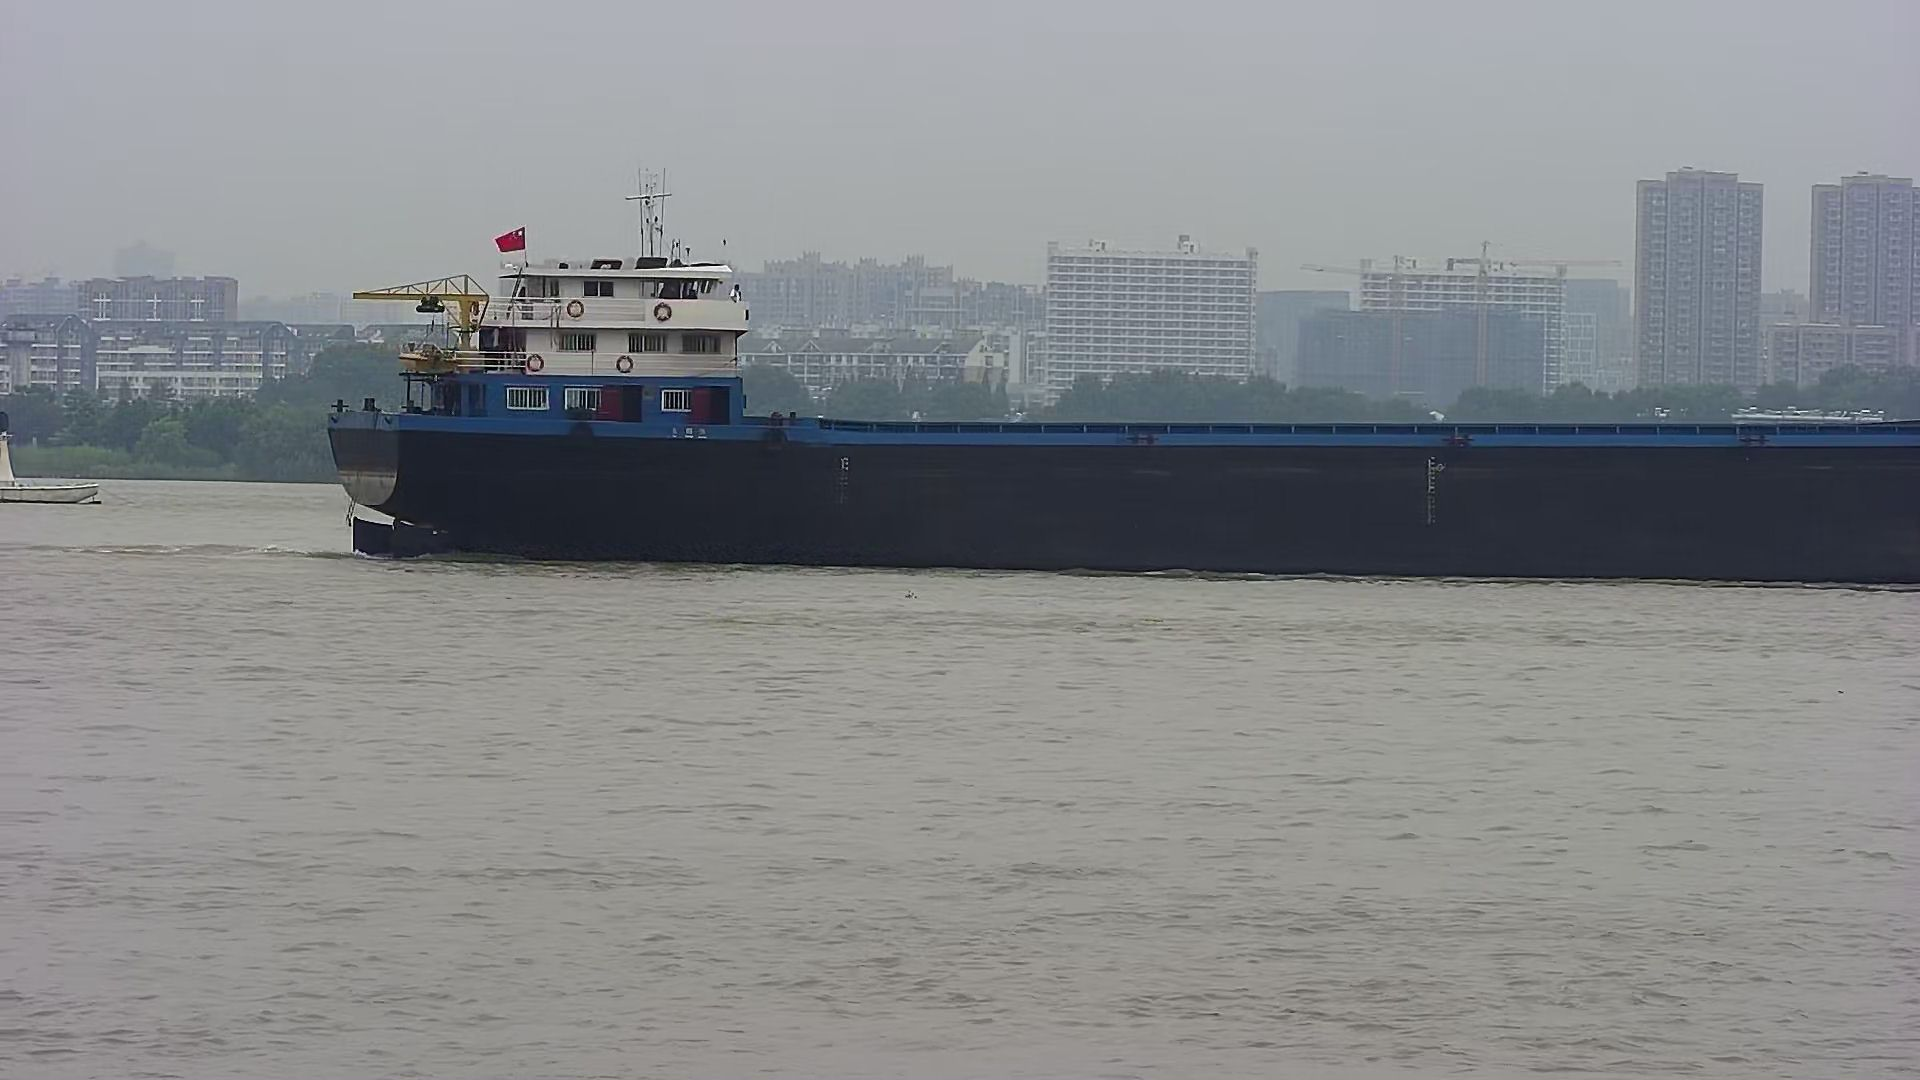ship: (315, 200, 1920, 576)
